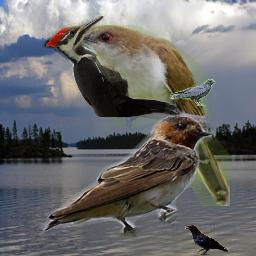Crow: (185, 225, 229, 255), (170, 79, 216, 106)
Cuckoo: (60, 25, 230, 206)
Swallow: (39, 113, 212, 238)
Woodpecker: (37, 16, 185, 117)
